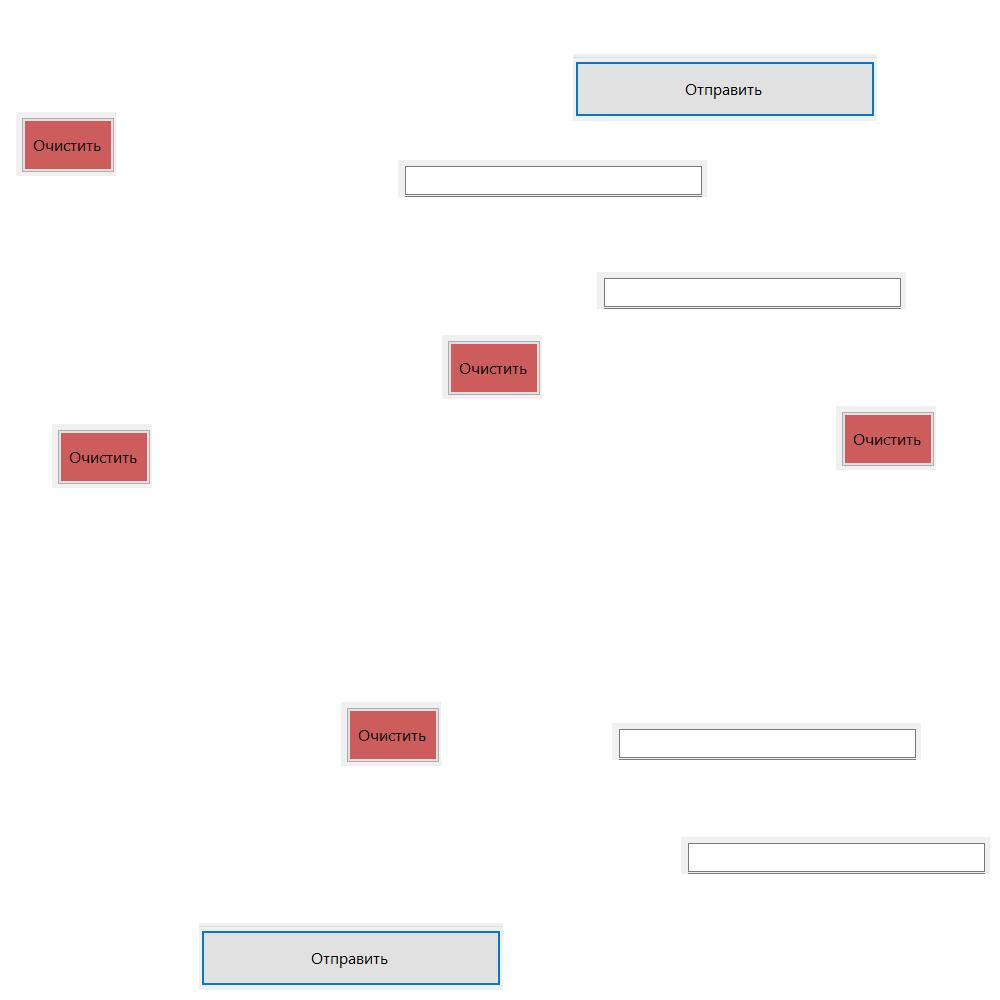Button: (573, 54, 877, 121), (199, 923, 503, 990), (341, 702, 441, 766), (52, 424, 152, 488), (442, 335, 542, 399), (836, 406, 936, 470), (16, 112, 116, 176)
EditText-: (681, 837, 990, 874), (597, 272, 906, 309), (398, 160, 707, 197), (612, 723, 921, 760)
